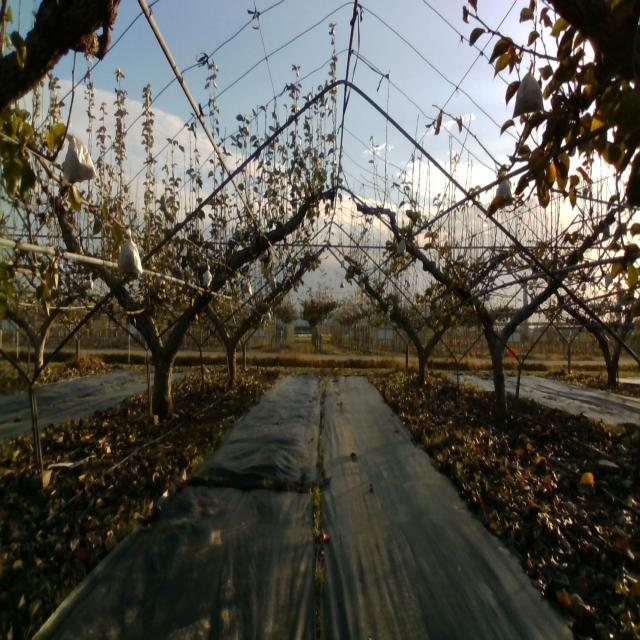pearbags: (61, 131, 98, 184), (512, 60, 545, 119), (117, 227, 144, 276), (495, 180, 513, 200), (396, 234, 406, 257)
